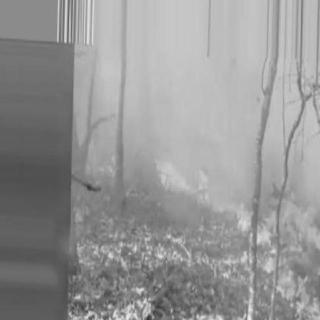Fire: (153, 150, 256, 236)
